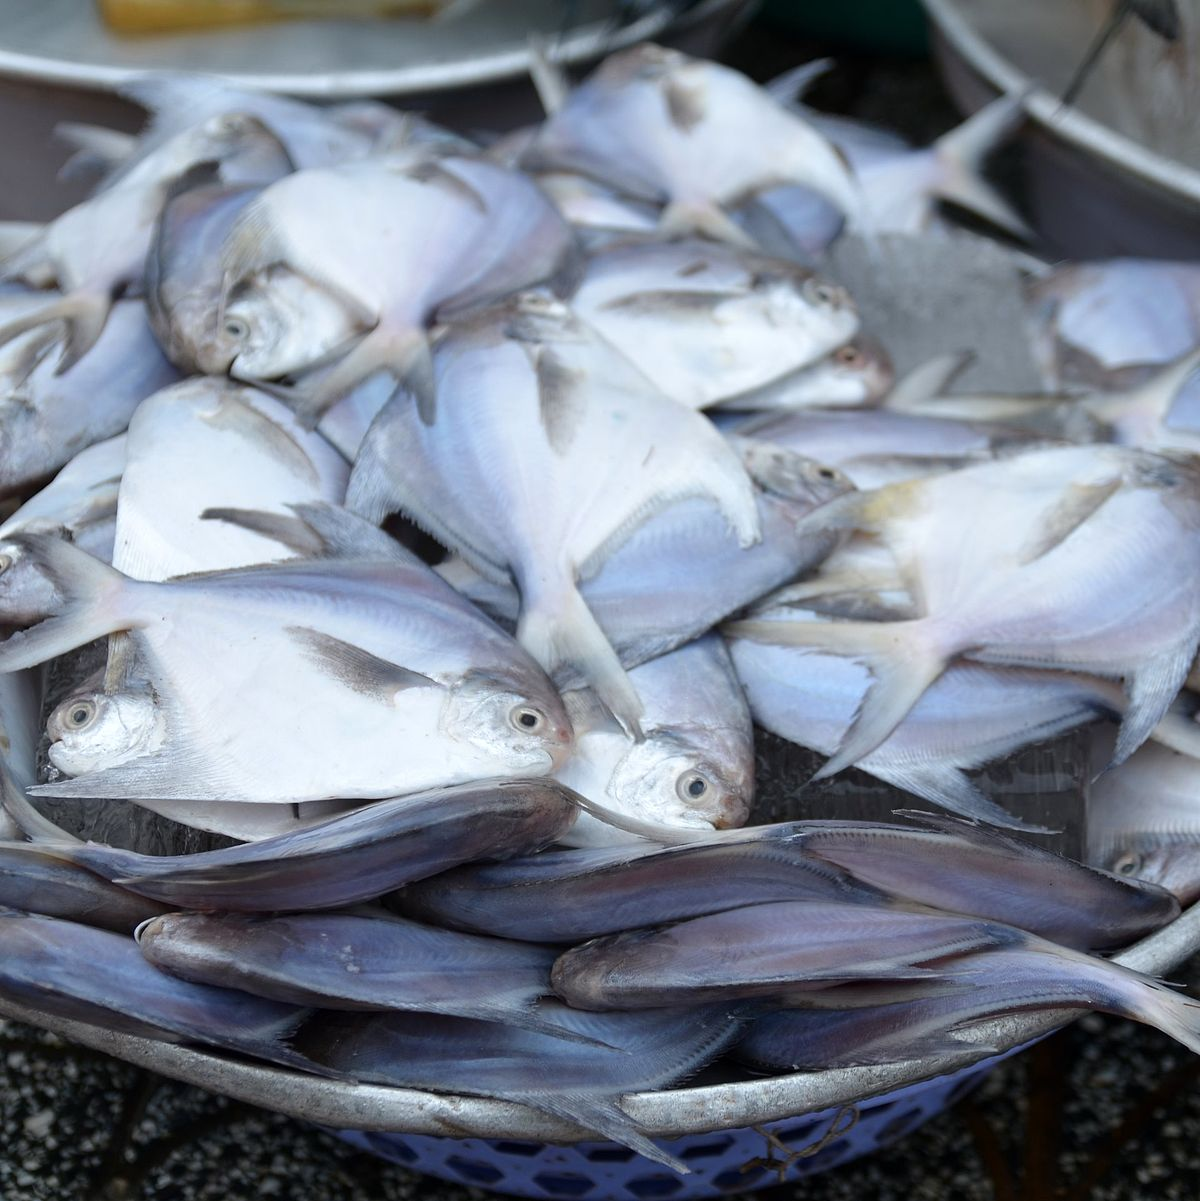Ikan Bawal: (1, 521, 588, 839), (357, 275, 720, 748), (810, 425, 1200, 721), (441, 202, 884, 414)
